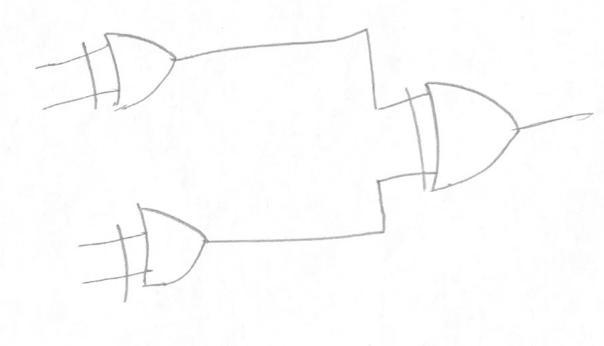XOR: (401, 71, 530, 200), (103, 193, 226, 311), (68, 27, 191, 116)
